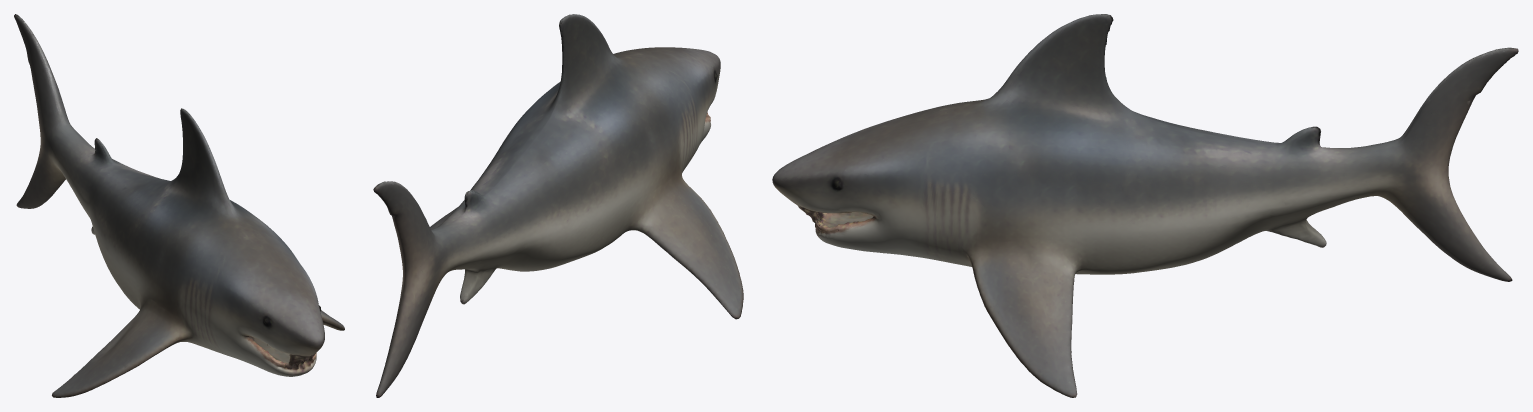
The picture shows the model from 3 angles, left to right: view 1: azimuth 30°, elevation 25°; view 2: azimuth 150°, elevation 25°; view 3: azimuth 270°, elevation 25°; orthographic projection. The views are drawn at different scales.
Parts seen in each view (by area): view 1: world; view 2: world; view 3: world.
Boxes of the visible parts, left/top/right/bottom form: world: left=14, top=14, right=344, bottom=397; world: left=373, top=14, right=743, bottom=397; world: left=772, top=14, right=1518, bottom=397.
Size of the model in its own units: 4.93 by 3.96 by 9.
1 material, 1 textured.
